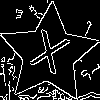X: (24, 29, 71, 84)
